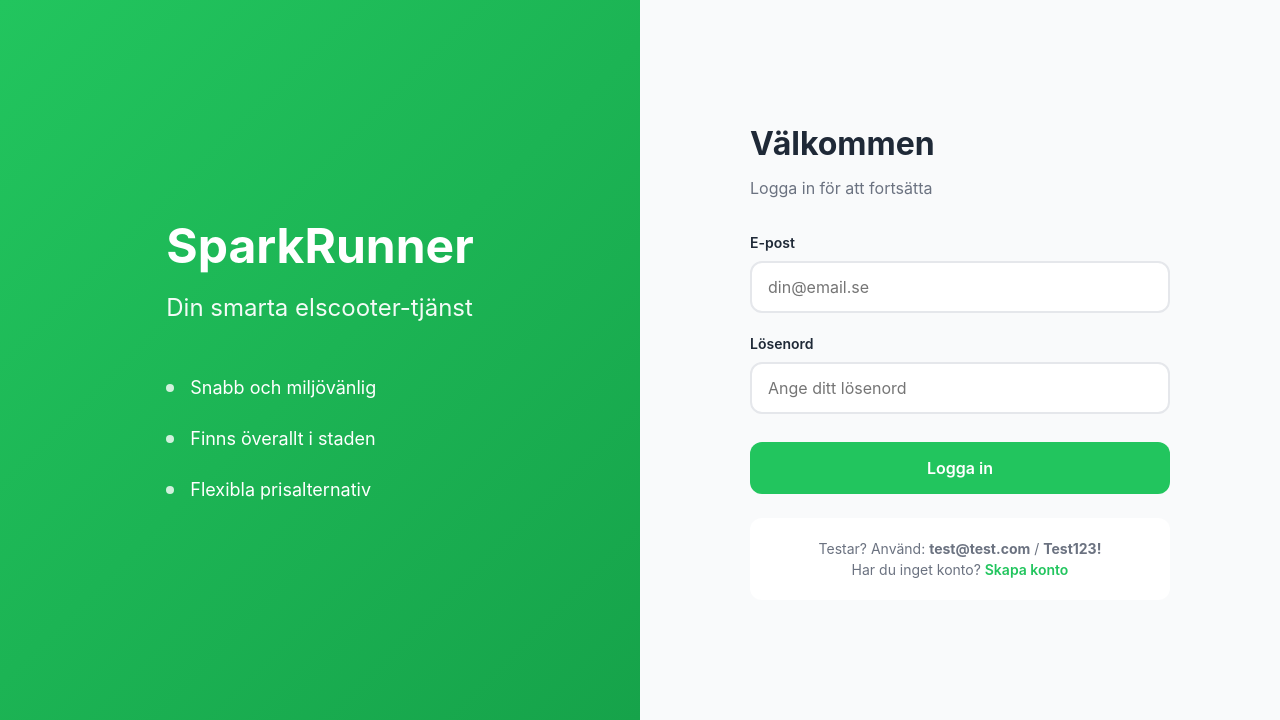
Test: LoginPage › should show error when fields are empty
Click the button "Logga in" at (960, 468), box [750,442,1170,494]
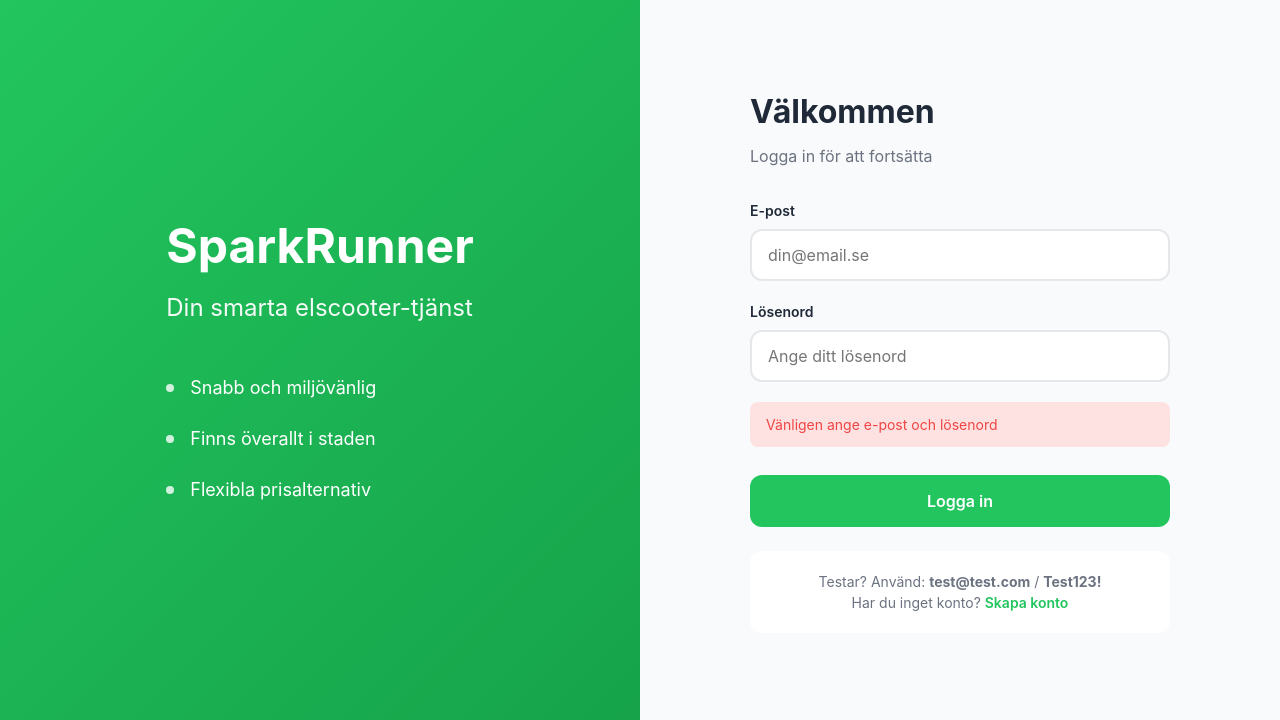
Result: the text "Vänligen ange e-post och lösenord" is shown at [750,402,1170,446]
